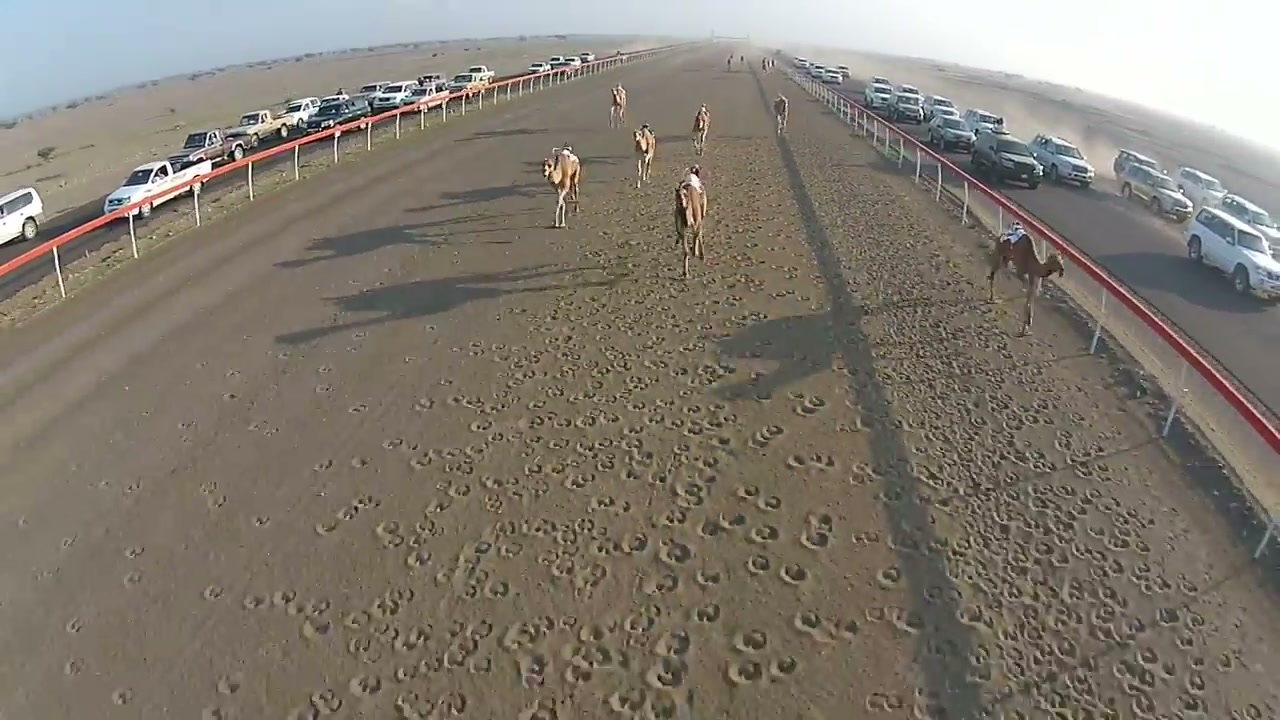animal_foot_print: (102, 108, 1279, 719), (465, 291, 851, 713), (314, 494, 381, 535), (646, 654, 687, 690), (791, 609, 834, 642), (799, 511, 834, 549), (653, 628, 692, 659), (607, 688, 647, 717), (726, 658, 766, 685), (348, 674, 383, 700), (786, 453, 837, 470), (300, 614, 333, 640), (750, 424, 784, 448), (733, 629, 767, 653), (768, 655, 800, 679), (792, 394, 826, 416), (690, 602, 722, 624), (215, 672, 244, 696), (779, 563, 810, 585), (749, 524, 780, 543), (200, 704, 236, 719), (876, 568, 901, 588), (111, 687, 133, 705), (63, 658, 84, 676), (122, 570, 142, 586), (64, 617, 83, 633), (313, 458, 332, 472), (251, 514, 269, 527), (61, 535, 75, 549)
